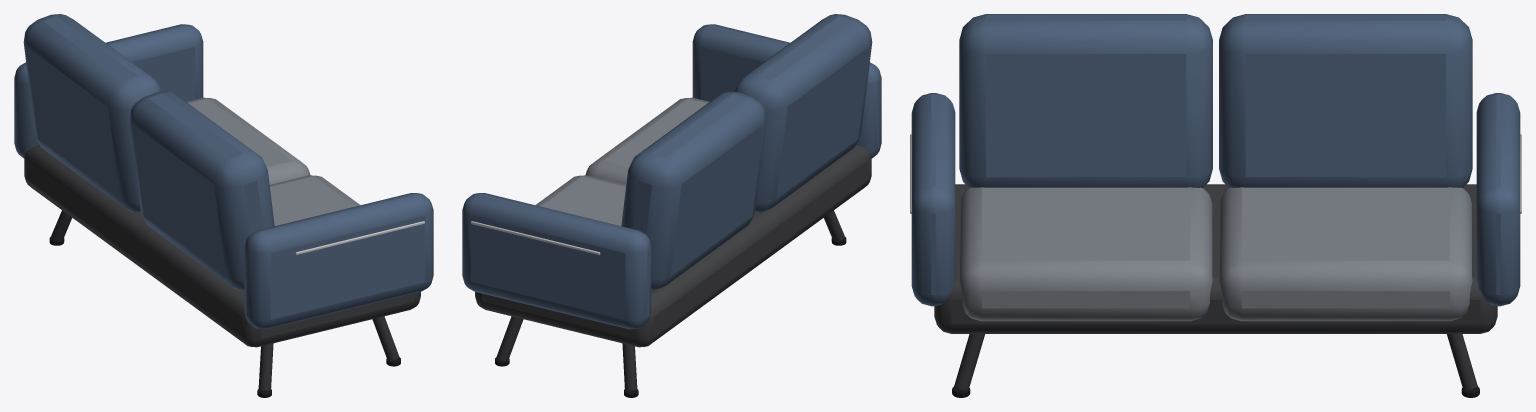
The model's file is sofa_2.glb.
3 renders of one model, left to right at view 1: azimuth 30°, elevation 25°; view 2: azimuth 150°, elevation 25°; view 3: azimuth 270°, elevation 25°, orthographic. The views are drawn at different scales.
Parts seen in each view (by area): view 1: Sofá de dos plazas; view 2: Sofá de dos plazas; view 3: Sofá de dos plazas.
Boxes of the visible parts, x1,y1,x2,y2 form: Sofá de dos plazas: [14, 14, 433, 397]; Sofá de dos plazas: [462, 14, 881, 397]; Sofá de dos plazas: [910, 14, 1521, 397].
Bounding box in the file's own units: 0.7402 × 0.8433 × 1.61.
